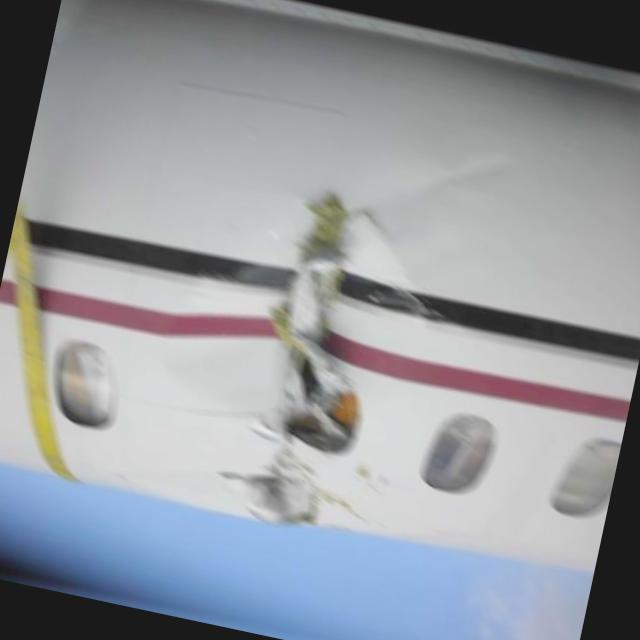crack: (219, 194, 364, 526)
dent: (148, 248, 290, 412), (353, 118, 524, 252), (344, 213, 432, 316)
